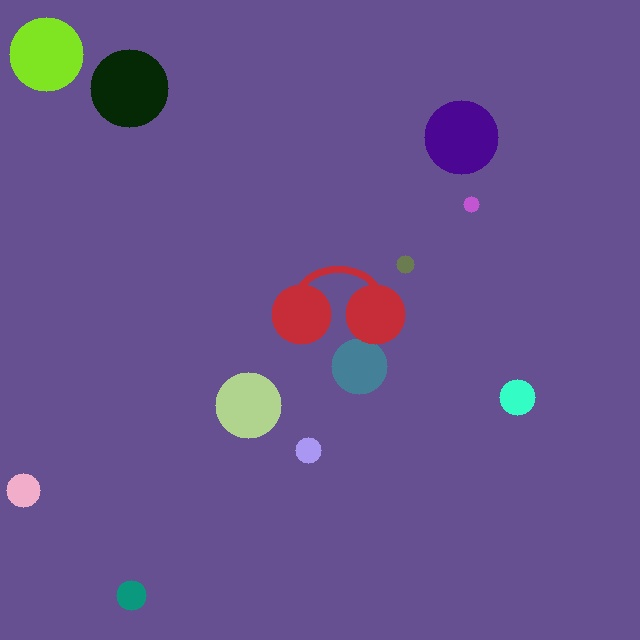over_ear: (267, 258, 409, 348)
